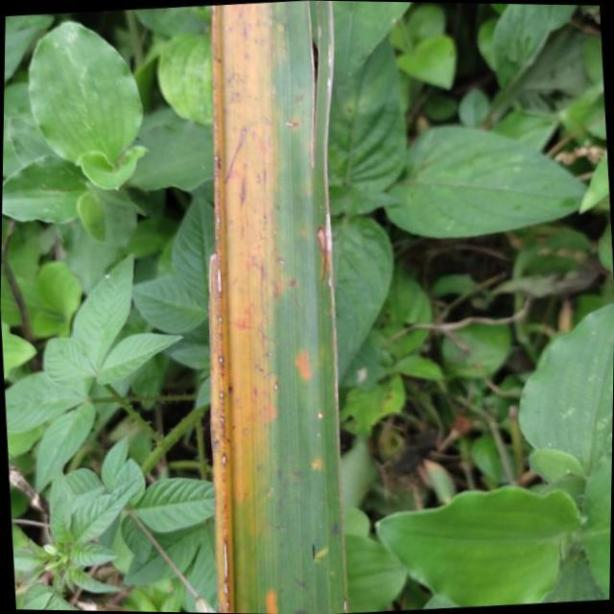Megnesium: (206, 1, 353, 614)
